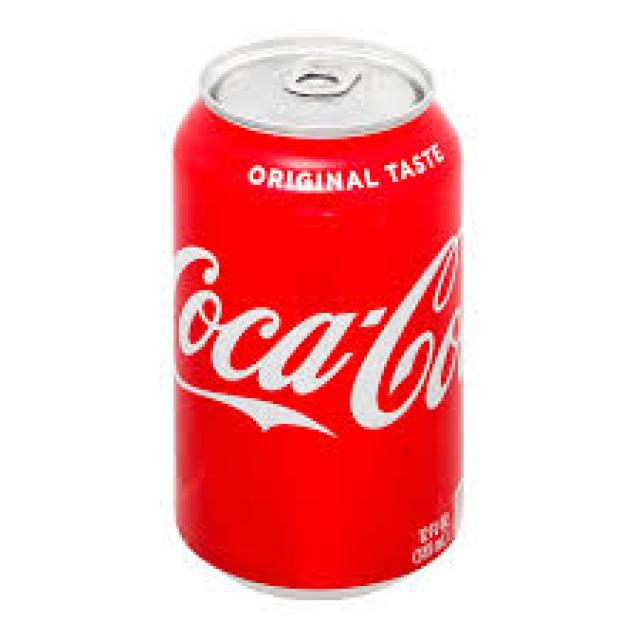Cans: (160, 31, 490, 600)
